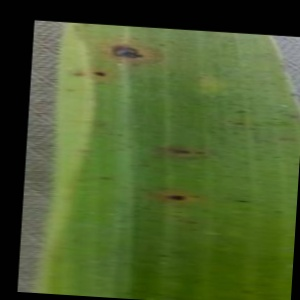Bacterial_Leaf_Blight: (108, 40, 145, 64), (161, 142, 194, 162), (160, 188, 190, 205), (75, 145, 97, 156), (90, 68, 110, 80), (236, 285, 256, 297), (177, 217, 201, 227), (70, 68, 88, 81), (132, 160, 153, 170), (232, 196, 251, 206), (93, 118, 110, 129), (152, 251, 172, 260), (264, 114, 281, 123), (278, 134, 296, 142), (97, 174, 114, 182), (191, 149, 206, 158), (232, 107, 247, 116), (286, 90, 299, 100), (199, 206, 213, 215), (115, 147, 128, 156), (165, 112, 178, 121), (64, 87, 79, 94), (272, 207, 285, 215), (187, 193, 201, 200), (288, 114, 300, 122), (118, 99, 130, 107), (253, 157, 266, 164), (232, 120, 244, 127), (231, 130, 241, 138), (292, 160, 300, 169), (208, 130, 220, 136), (157, 41, 167, 48), (114, 132, 124, 139), (251, 122, 262, 128), (270, 155, 283, 160), (227, 118, 235, 125), (270, 81, 277, 86)
